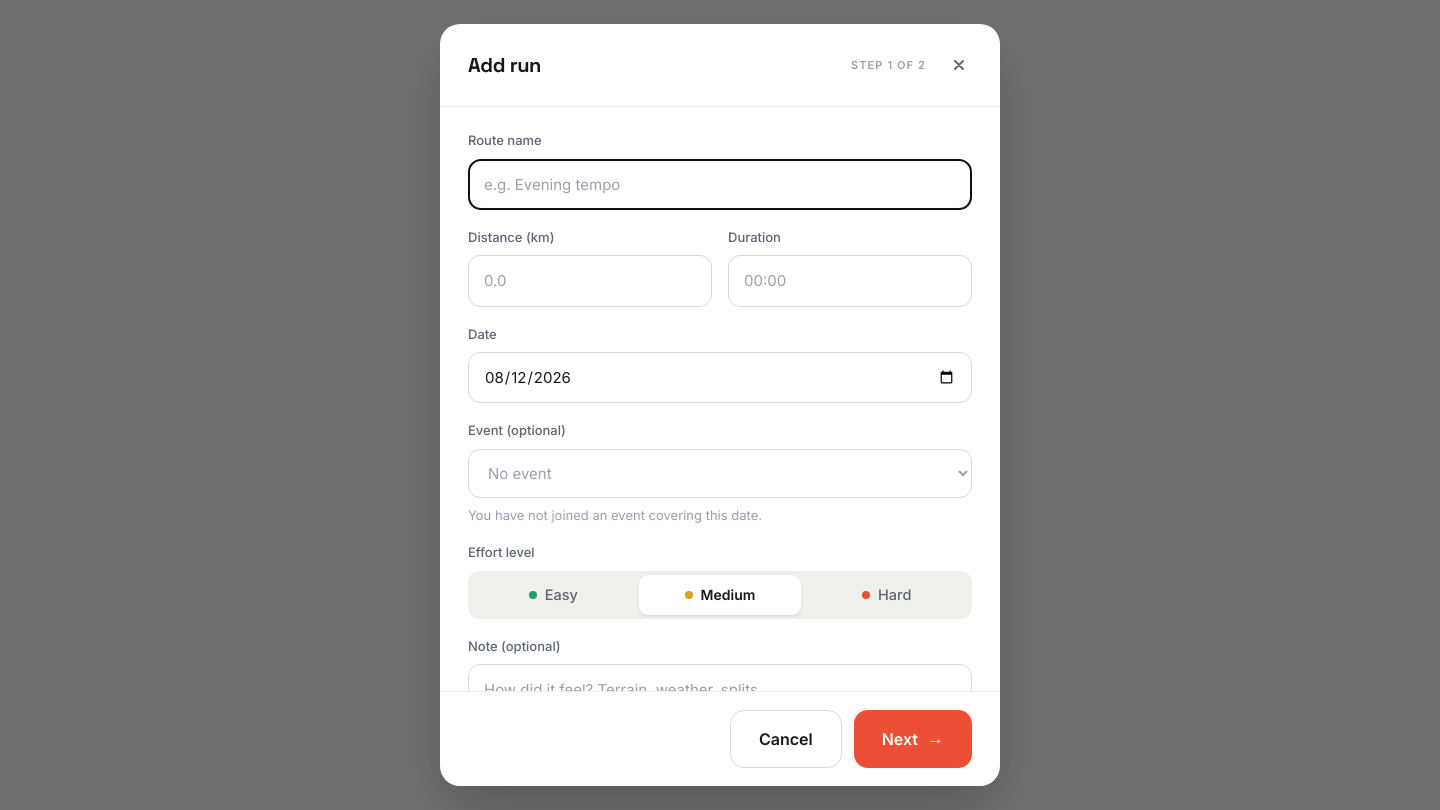
Scenario: Add run modal (RUN-23) › refuses to save duration 0 and says so inline (AC4)
Type "Evening tempo" into the field labelled "Route name" at (720, 184), box [468,158,972,210]
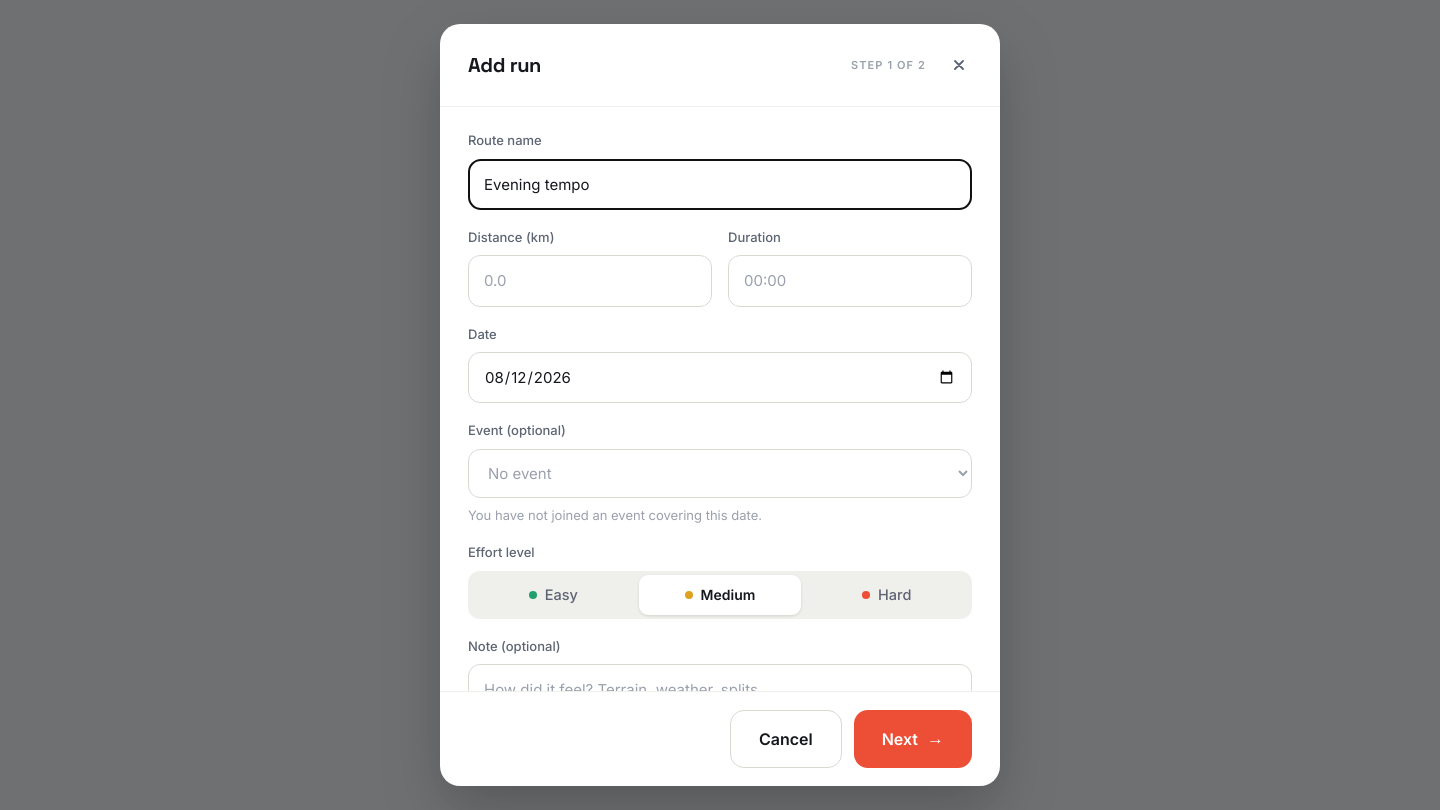
Type "8.2" into the field labelled "Distance (km)" at (590, 281), box [468,255,712,307]
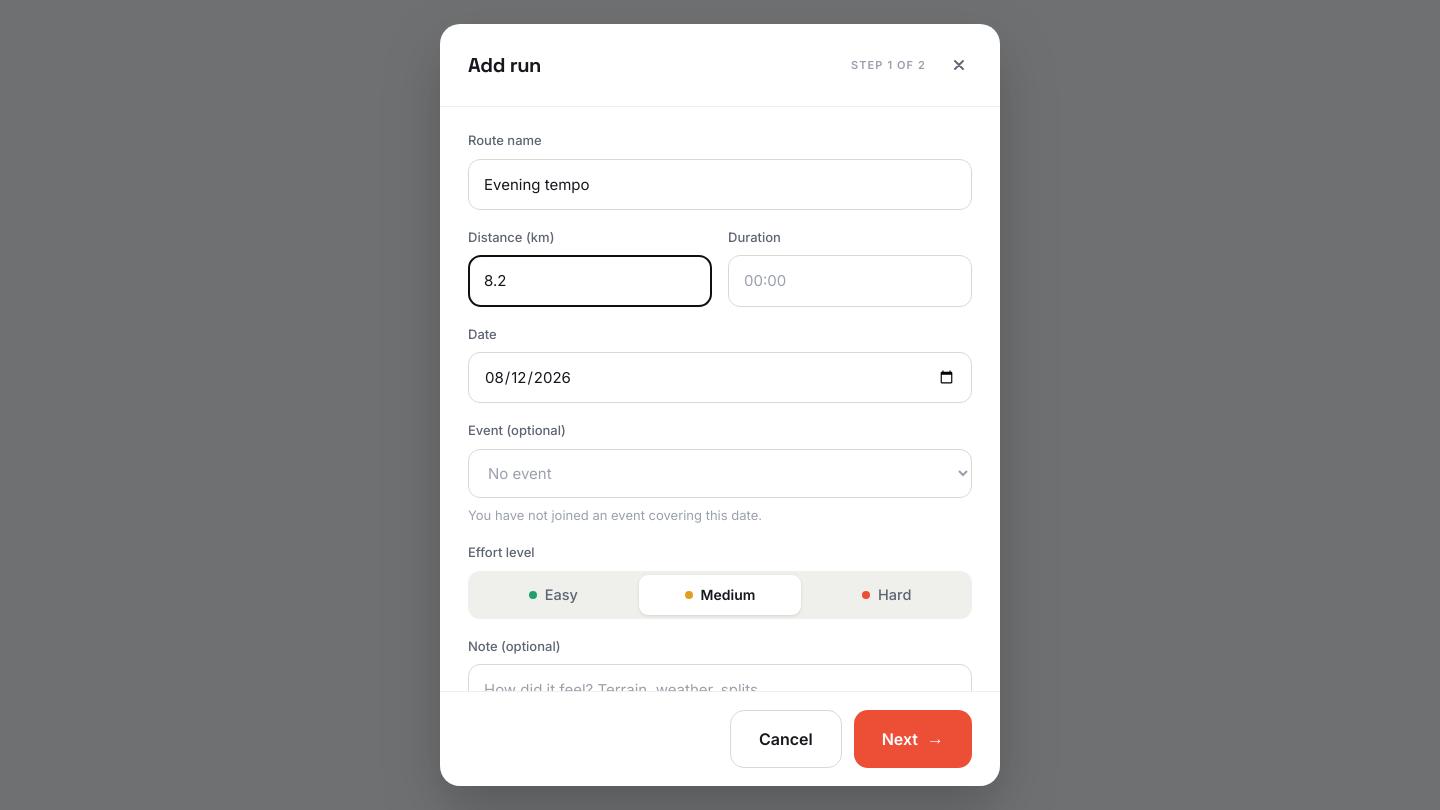
Type "42:15" into the field labelled "Duration" at (850, 281), box [728,255,972,307]
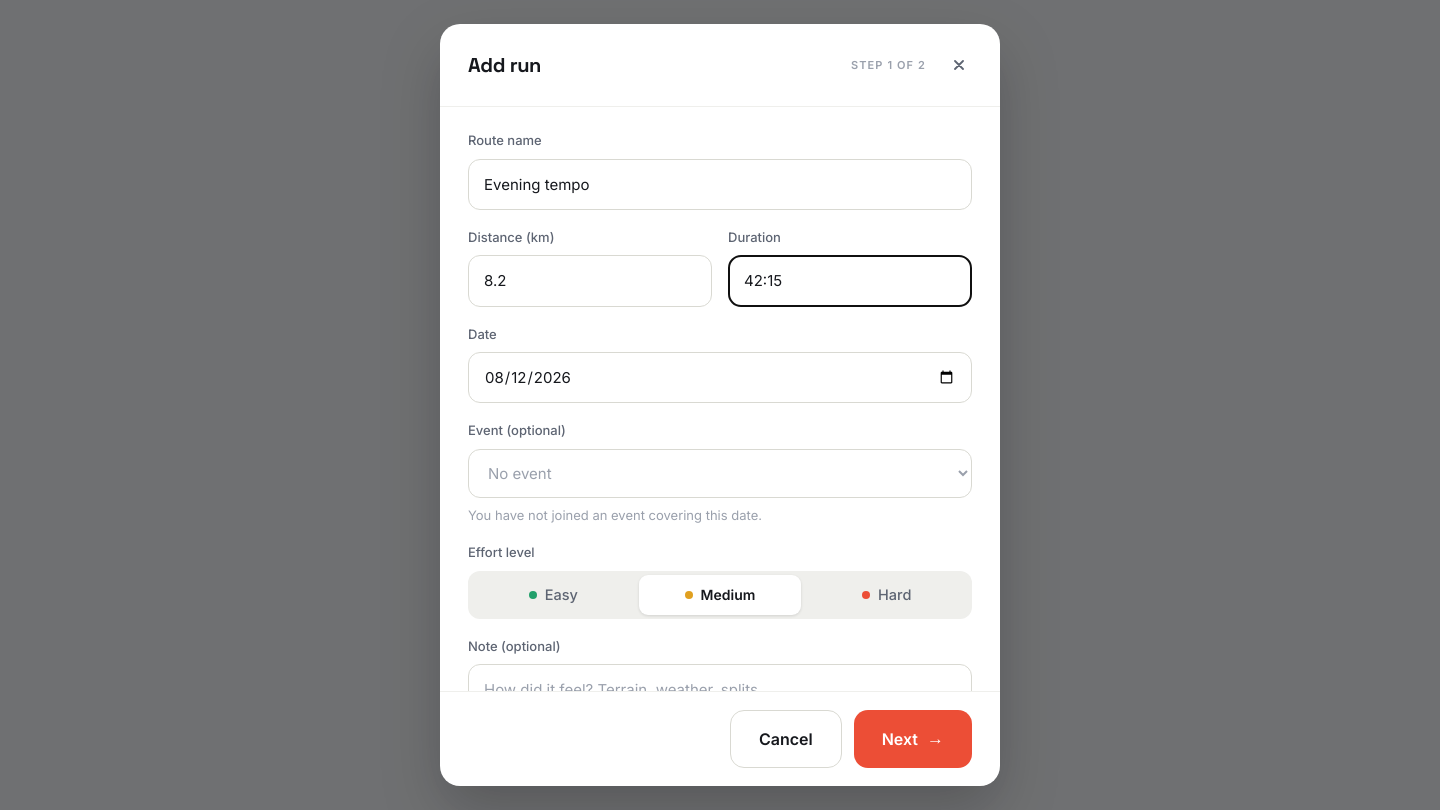
Replace the text in the field labelled "Duration" with "0:00" at (850, 281), box [728,255,972,307]
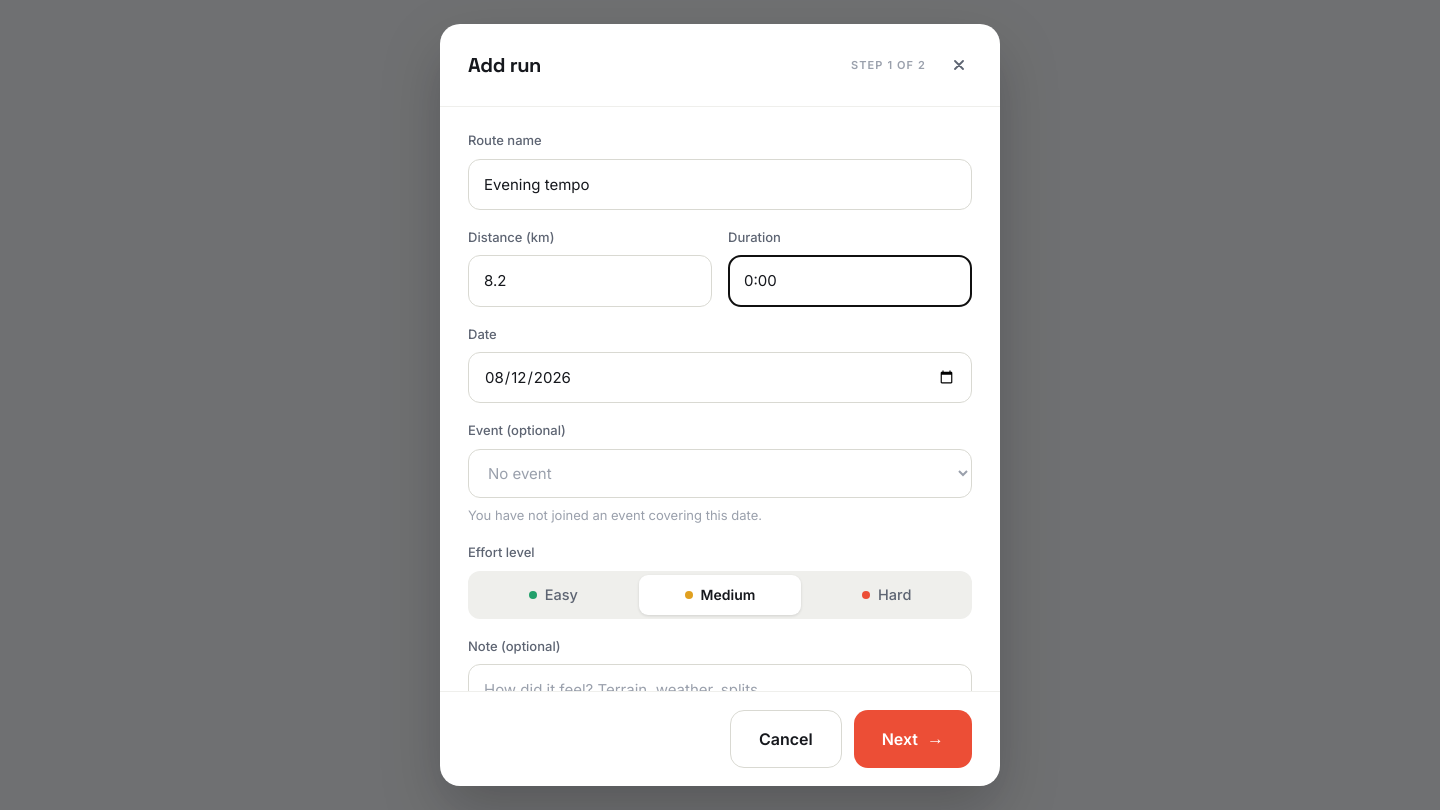
Click the button "Next →" at (913, 739), box [854,710,972,768]
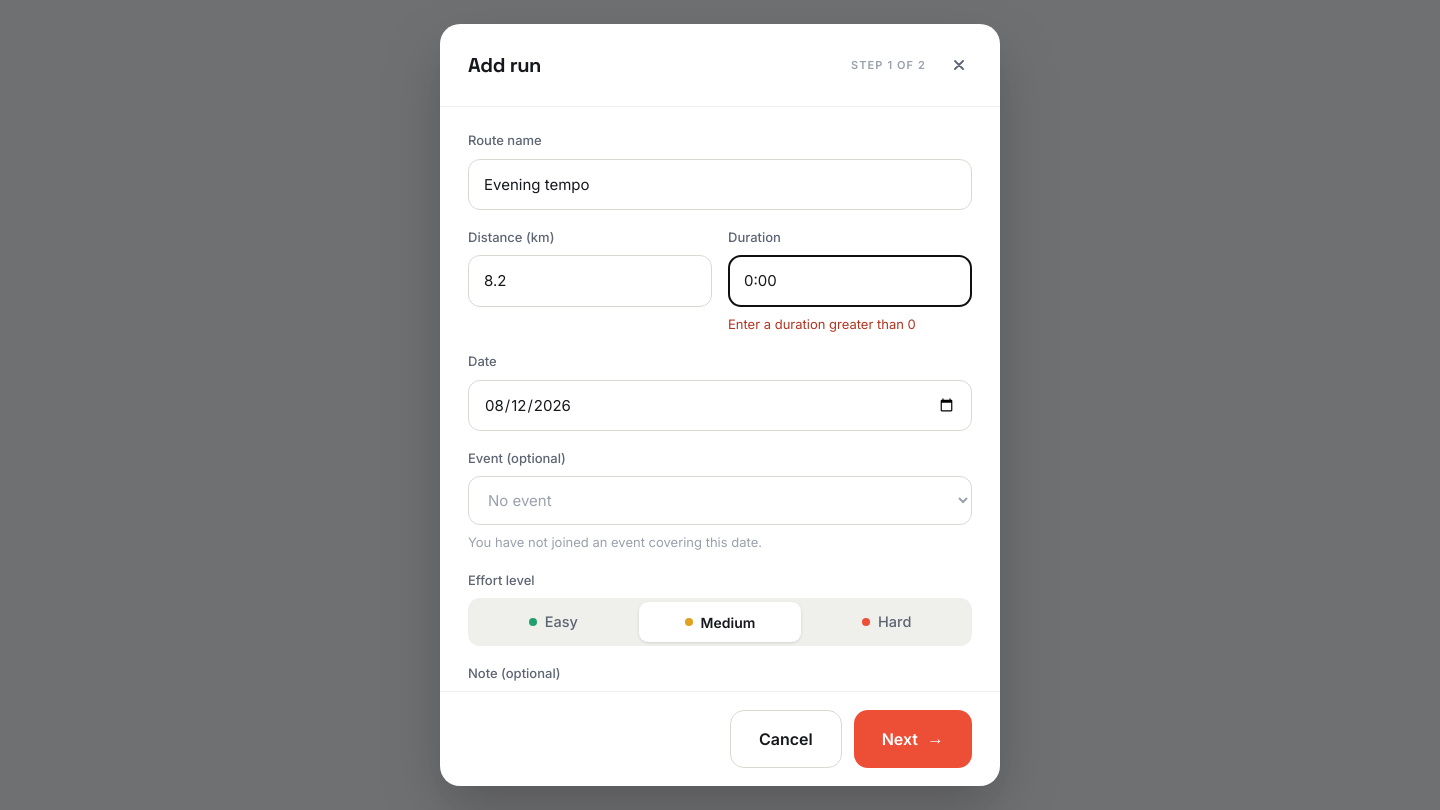
expect the message "Enter a duration greater than 0" is shown: met, box [728,316,916,332]
